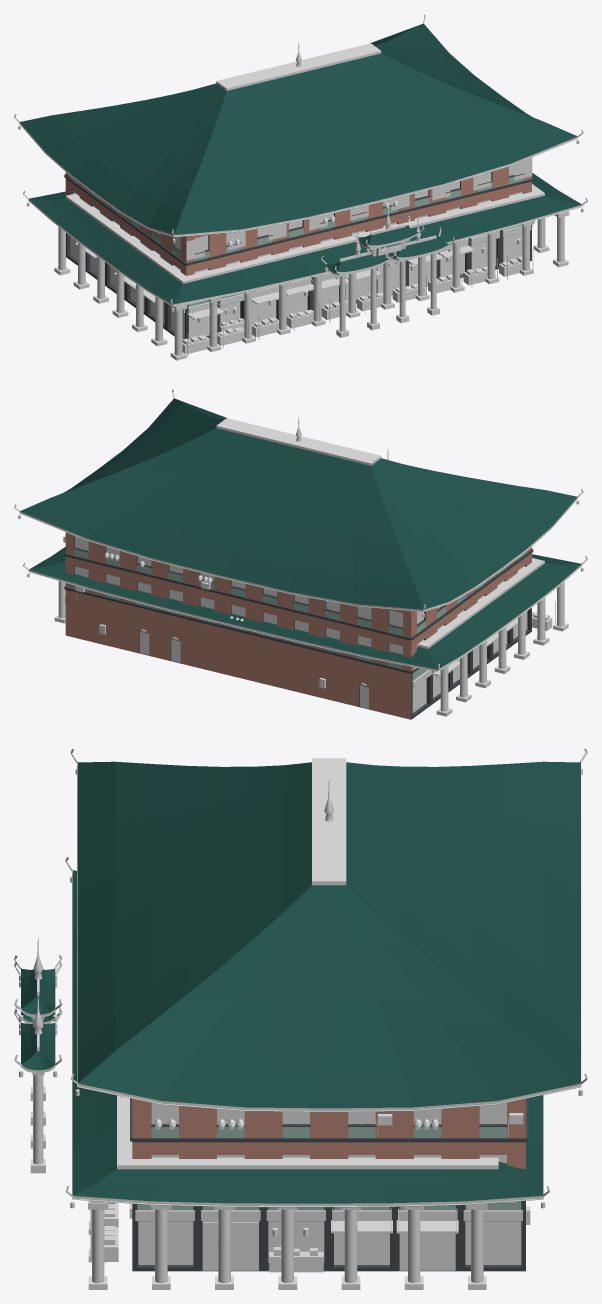
File: LM_NM_NightMarketHall.fbx
The picture shows the model from 3 angles, top to bottom: view 1: azimuth 30°, elevation 25°; view 2: azimuth 150°, elevation 25°; view 3: azimuth 270°, elevation 25°; orthographic projection. The views are drawn at different scales.
Parts seen in each view (by area): view 1: LM_NM_NightMarketHall_LOD0; view 2: LM_NM_NightMarketHall_LOD0; view 3: LM_NM_NightMarketHall_LOD0.
Boxes of the visible parts, x1=… form: LM_NM_NightMarketHall_LOD0: x1=14, y1=14, x2=587, y2=360; LM_NM_NightMarketHall_LOD0: x1=14, y1=389, x2=587, y2=719; LM_NM_NightMarketHall_LOD0: x1=14, y1=748, x2=587, y2=1289.
Size of what is drawn, in the model's own units: 45.84 by 22.85 by 33.54.
